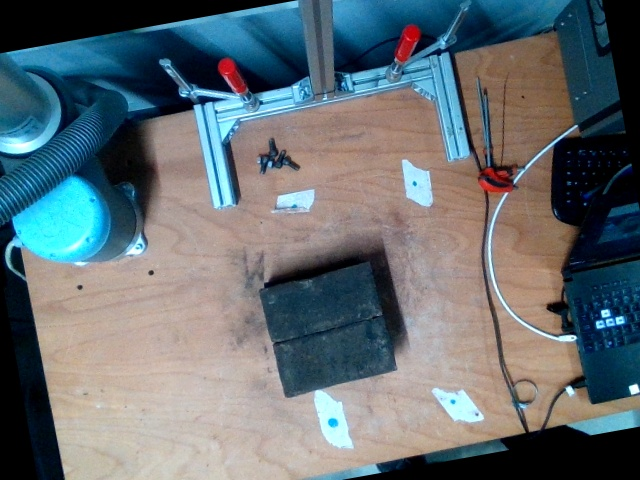brick: (258, 262, 385, 342), (274, 320, 395, 396)
